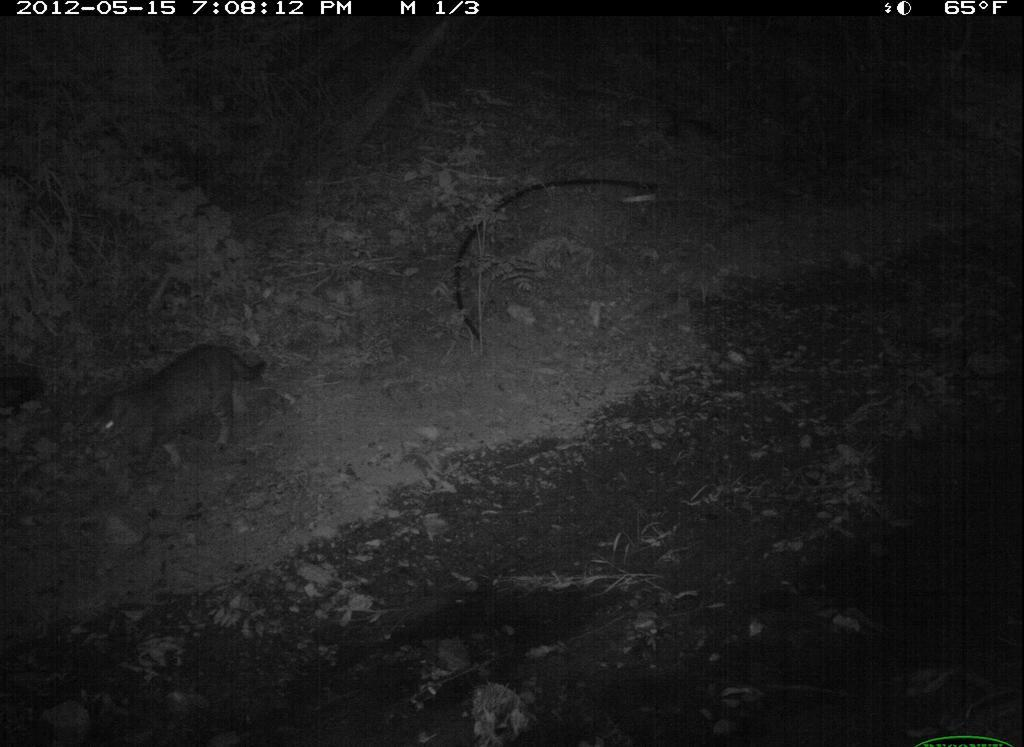cat: (85, 336, 272, 484)
